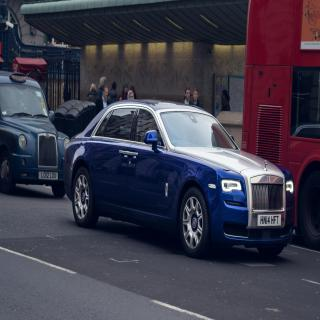Normal_vehicle: (61, 100, 296, 257), (0, 72, 70, 204)
